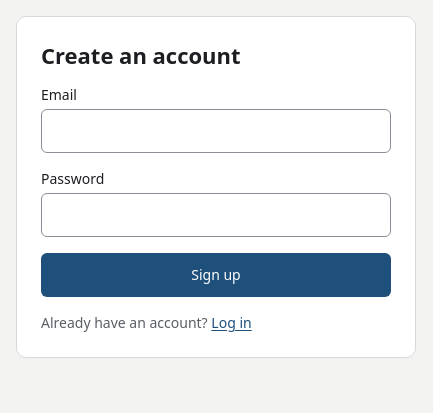
Test: auth screens › sign-up maps EMAIL_TAKEN to its message
In the field labelled "Email": (216, 131) top-left (41, 109), bottom-right (391, 153), type "iryna@example.com"
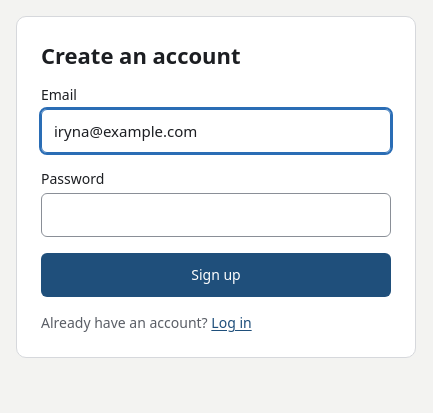
In the password field labelled "Password": (216, 215) top-left (41, 193), bottom-right (391, 237), type "correct horse"
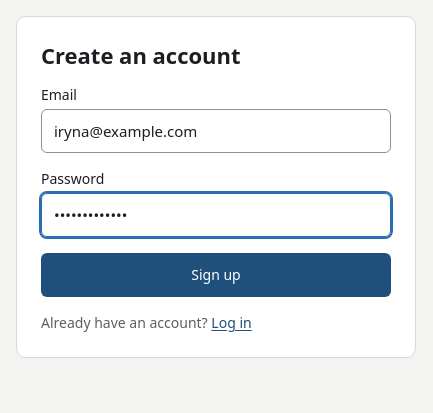
Click the button "Sign up": (216, 275) top-left (41, 253), bottom-right (391, 297)
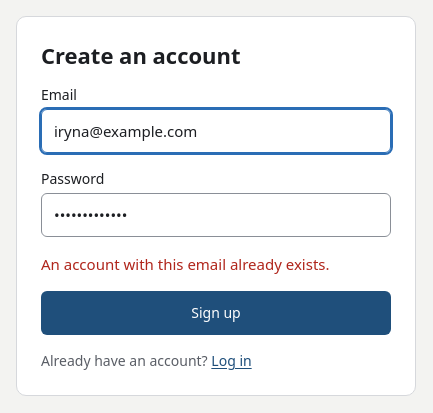
Check: the message reads "An account with this email already exists.", box top-left (41, 254), bottom-right (330, 274)
